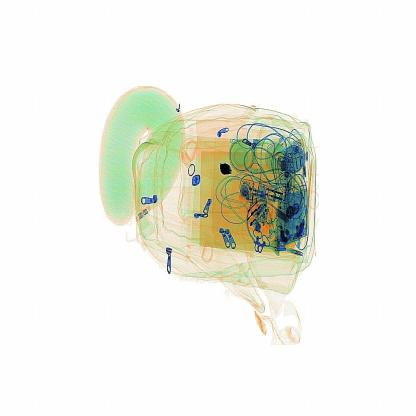scissors: (217, 156, 241, 190)
